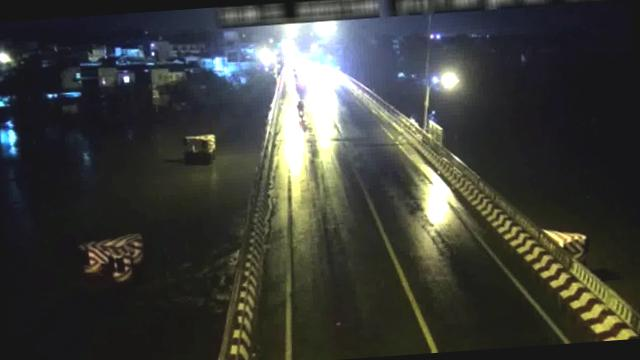Bike: (296, 99, 308, 123)
